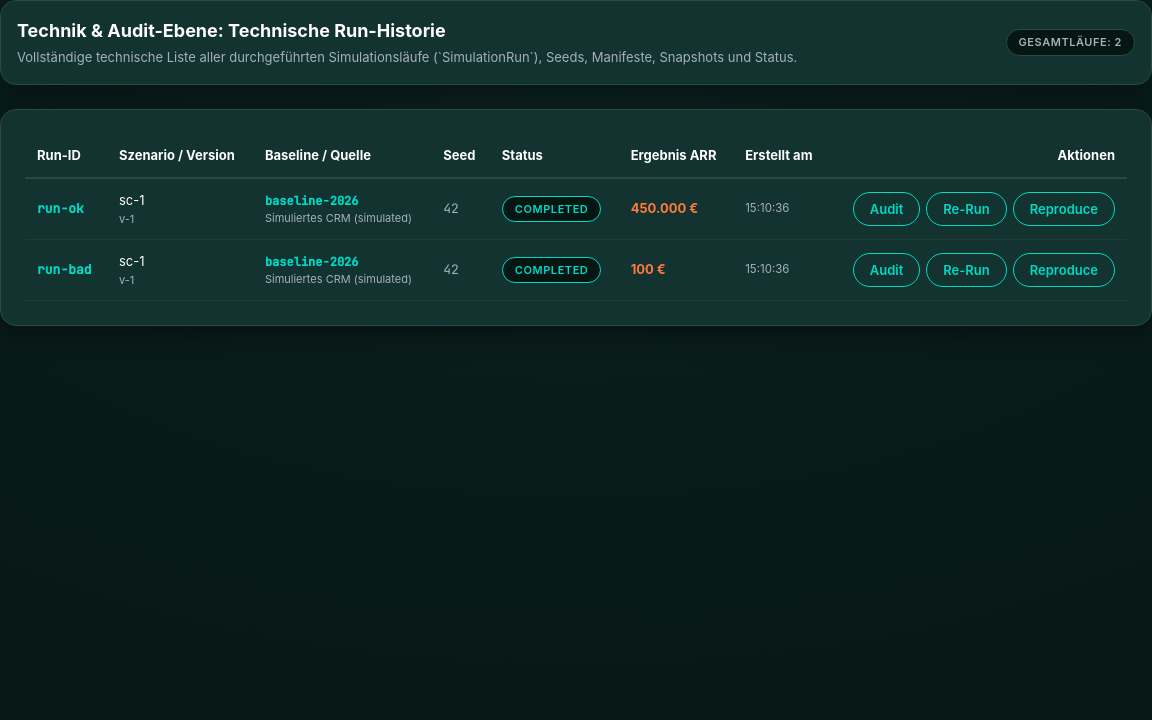
Test: AuditTierView (branch) › Snapshot-Tab: Invarianten valide vs. verletzt, Finanz-Snapshot, RNG
This screenshot has width=1152, height=720.
valider Run
Click the button "Audit" in the row of "run-ok" at (887, 209), box [853,192,920,226]
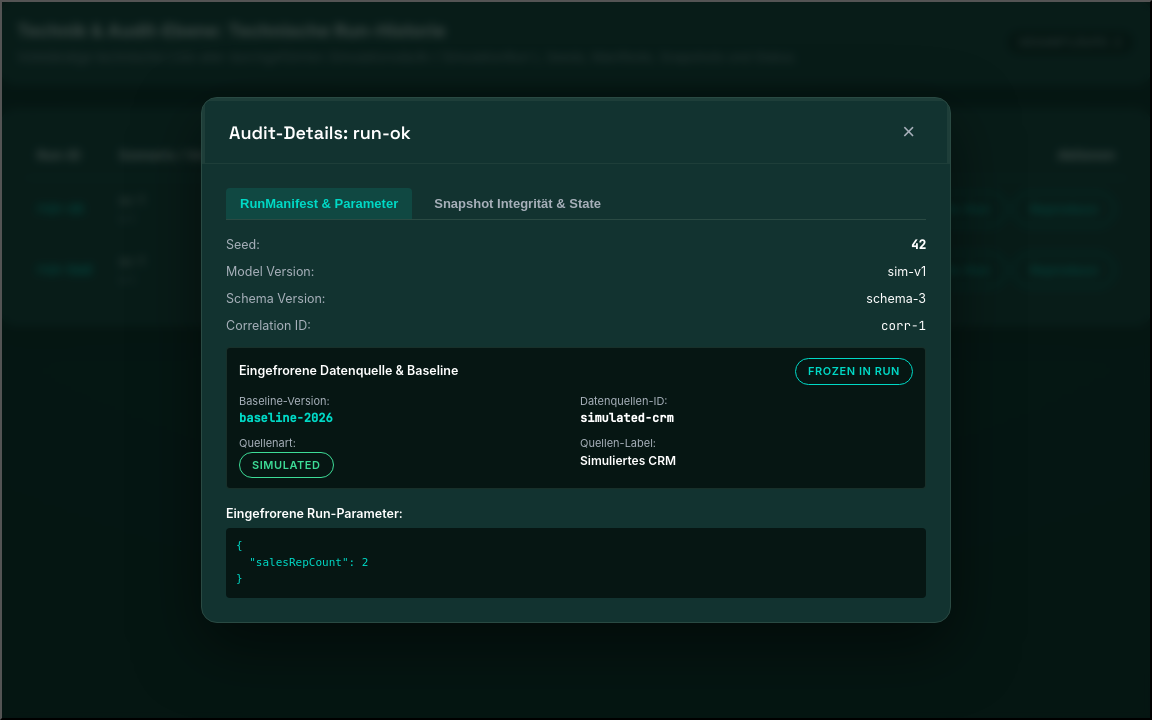
Click the button "Snapshot Integrität & State" at (518, 204), box [420,188,615,219]
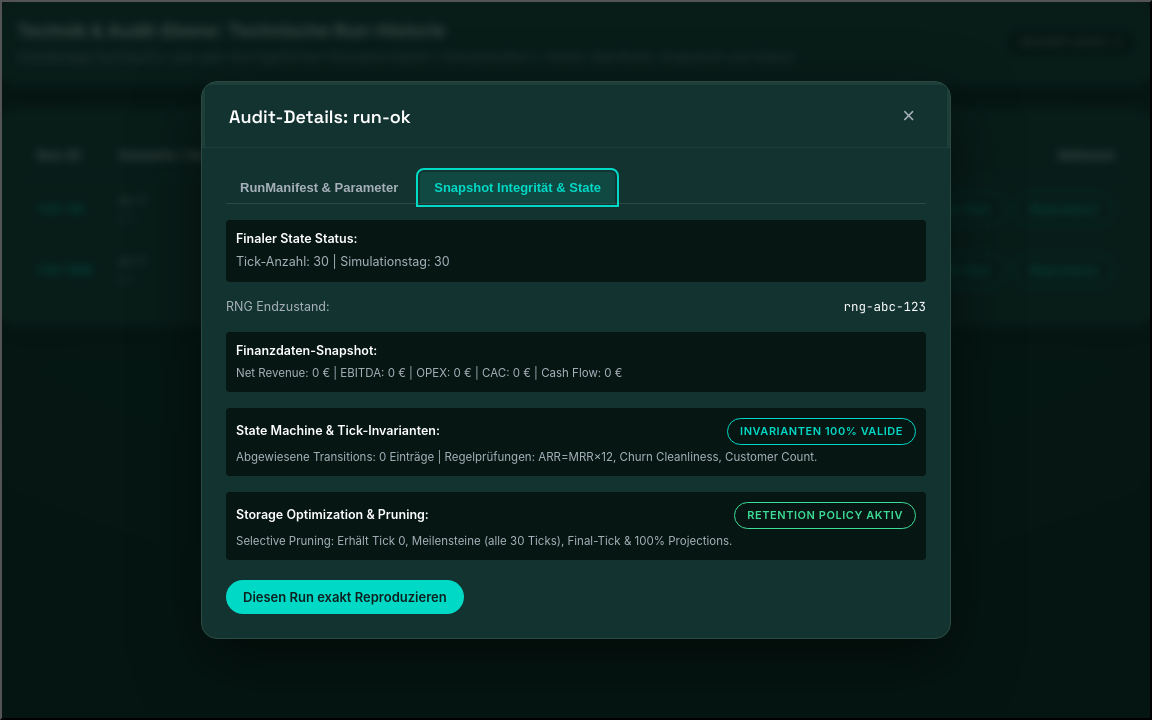
expect the text "INVARIANTEN 100% VALIDE" is shown: met, box [727,418,916,445]
expect the text "rng-abc-123" is shown: met, box [844,298,926,316]
expect the text "Finanzdaten-Snapshot:" is shown: met, box [236,343,377,358]
zurück auf Manifest, Modal zu
Click the button "RunManifest & Parameter" at (319, 188), box [226,172,412,203]
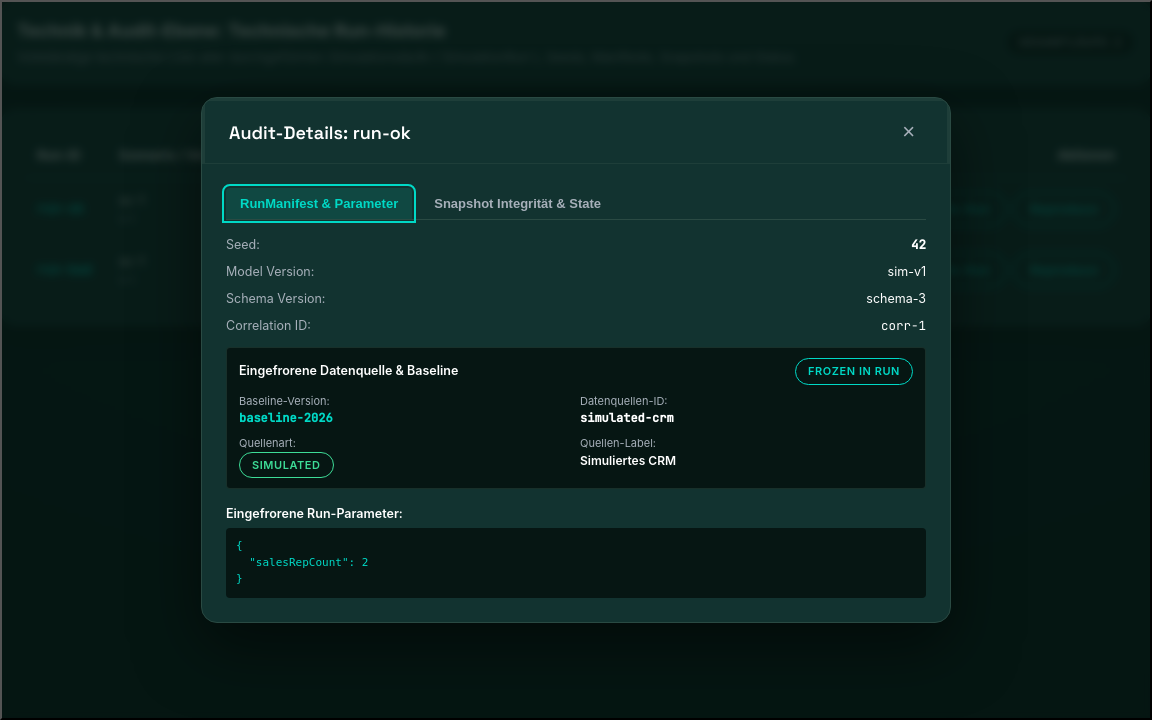
expect the text "Seed:" is shown: met, box [226,236,260,255]
